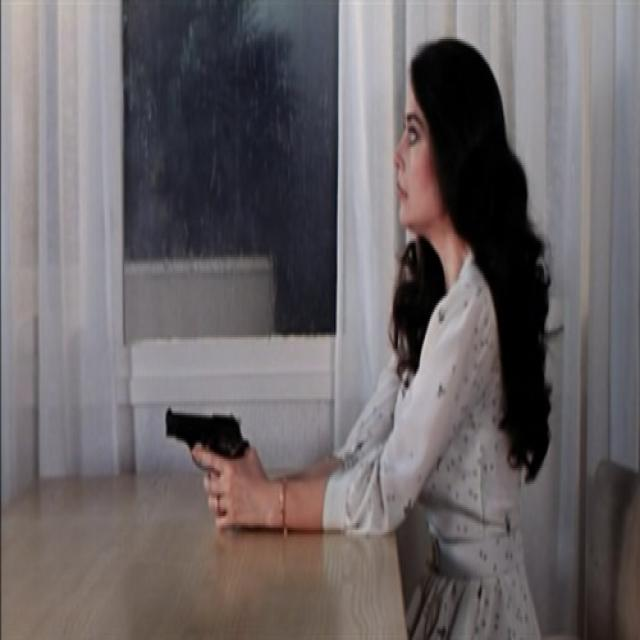weapons: (156, 379, 270, 538)
